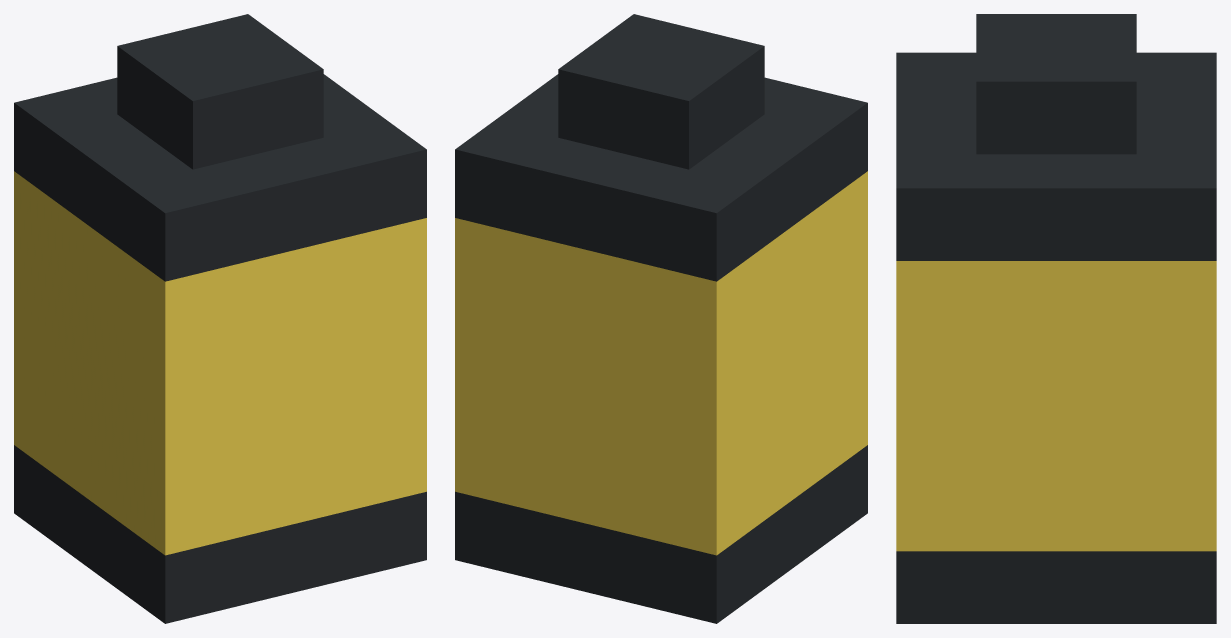
The model's file is lantern.glb.
3 views of the same model, side by side, from view 1: azimuth 30°, elevation 25°; view 2: azimuth 150°, elevation 25°; view 3: azimuth 270°, elevation 25° (orthographic). The views are drawn at different scales.
Parts seen in each view (by area): view 1: generated(Clone); view 2: generated(Clone); view 3: generated(Clone).
Boxes of the visible parts, x1,y1,x2,y2 form: generated(Clone): (14,14,426,623); generated(Clone): (455,14,867,623); generated(Clone): (896,14,1216,623).
Bounding box in the file's own units: 4 × 7 × 4.
Materials: 1 (1 with a texture image).
